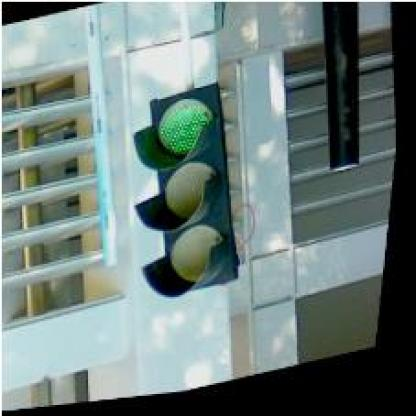green: (119, 83, 262, 309)
